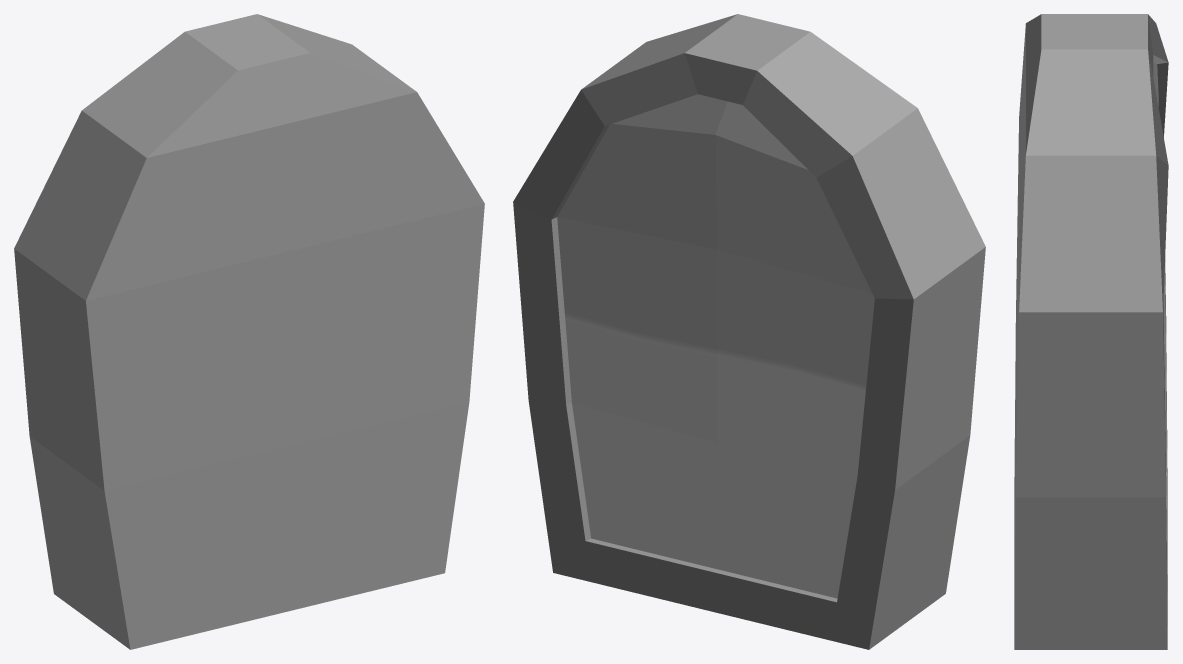
The model's file is LapideObstaculo.fbx.
3 views of the same model, side by side, from view 1: azimuth 30°, elevation 25°; view 2: azimuth 150°, elevation 25°; view 3: azimuth 270°, elevation 25° (orthographic).
Parts seen in each view (by area): view 1: Cube; view 2: Cube; view 3: Cube.
Part boxes in pixels (x1,y1,x2,y2): Cube: (14, 14, 484, 649); Cube: (513, 14, 985, 649); Cube: (1014, 14, 1168, 649).
Bounding box in the file's own units: 254 × 328 × 84.74.
